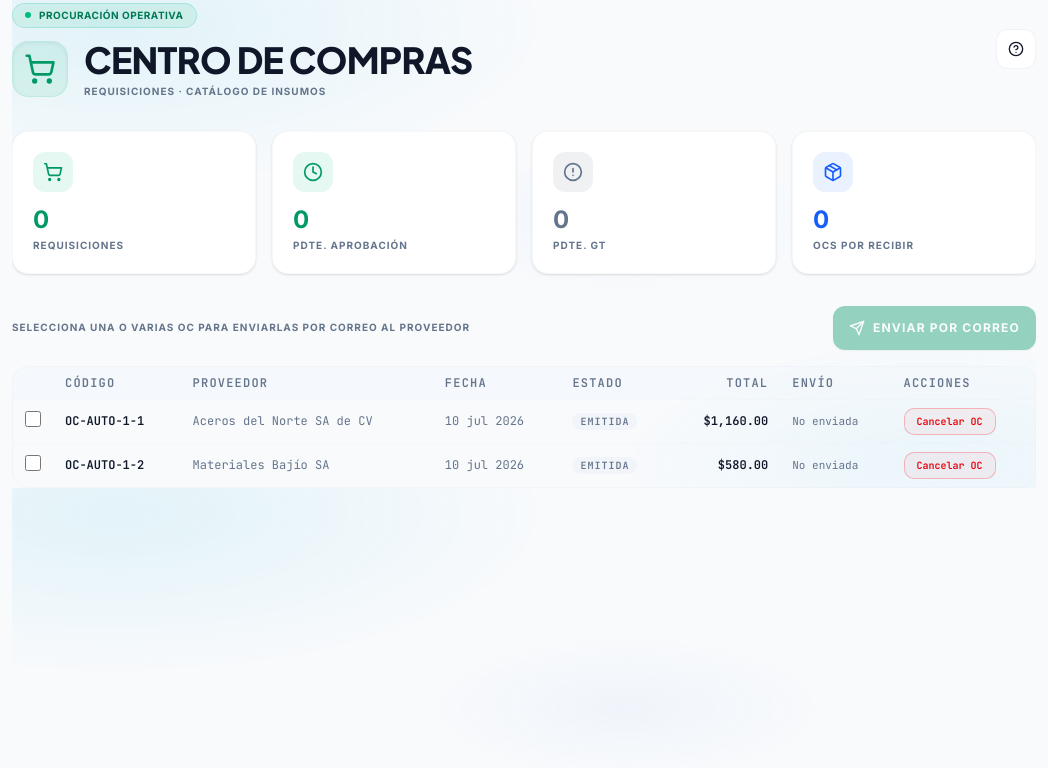
ComprasView — Órdenes de Compra — envío por correo › permite seleccionar una OC y enviarla, y el listado refleja "Enviada" sin recargar
expect the text "OC-AUTO-1-1" is shown: met, box left=53, top=399, right=181, bottom=443
expect the text "No enviada" is shown 2 times: met, box left=792, top=414, right=858, bottom=428; left=792, top=458, right=858, bottom=472
Click the checkbox next to "OC-AUTO-1-1".
click(33, 419)  # box left=25, top=411, right=41, bottom=427
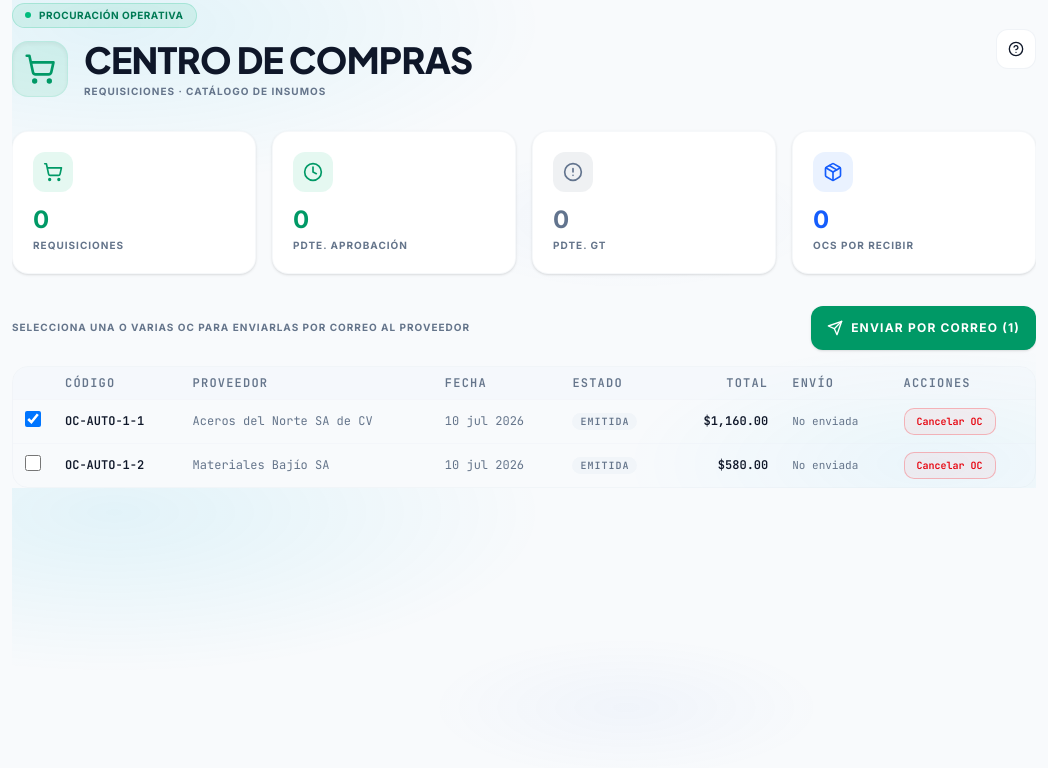
expect the button "Enviar por correo (1)" is enabled: met
Click the button "Enviar por correo (1)".
click(924, 328)  # box left=811, top=306, right=1036, bottom=350
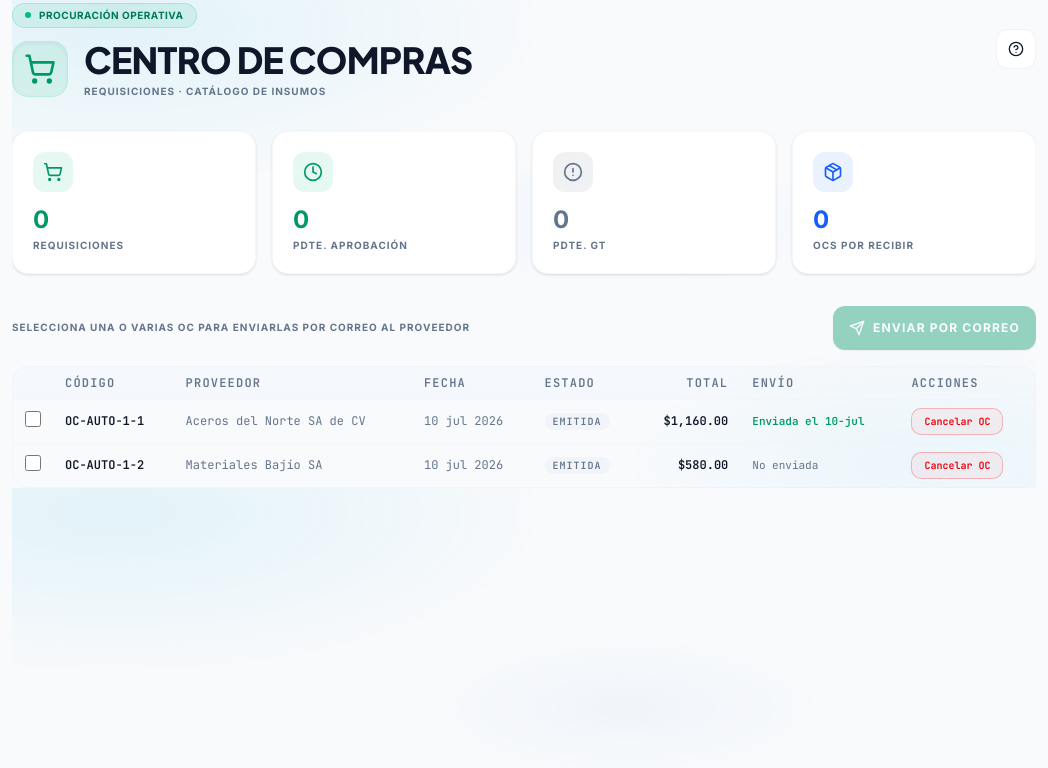
expect the text "No enviada" is shown once: met, box left=752, top=458, right=818, bottom=472
expect the text "Enviada el 10-jul" is shown: met, box left=752, top=414, right=864, bottom=428
